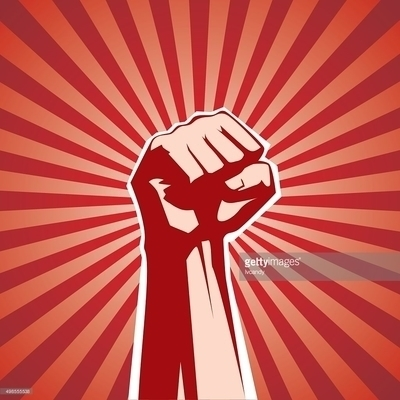closedhandfront: (119, 94, 290, 261)
